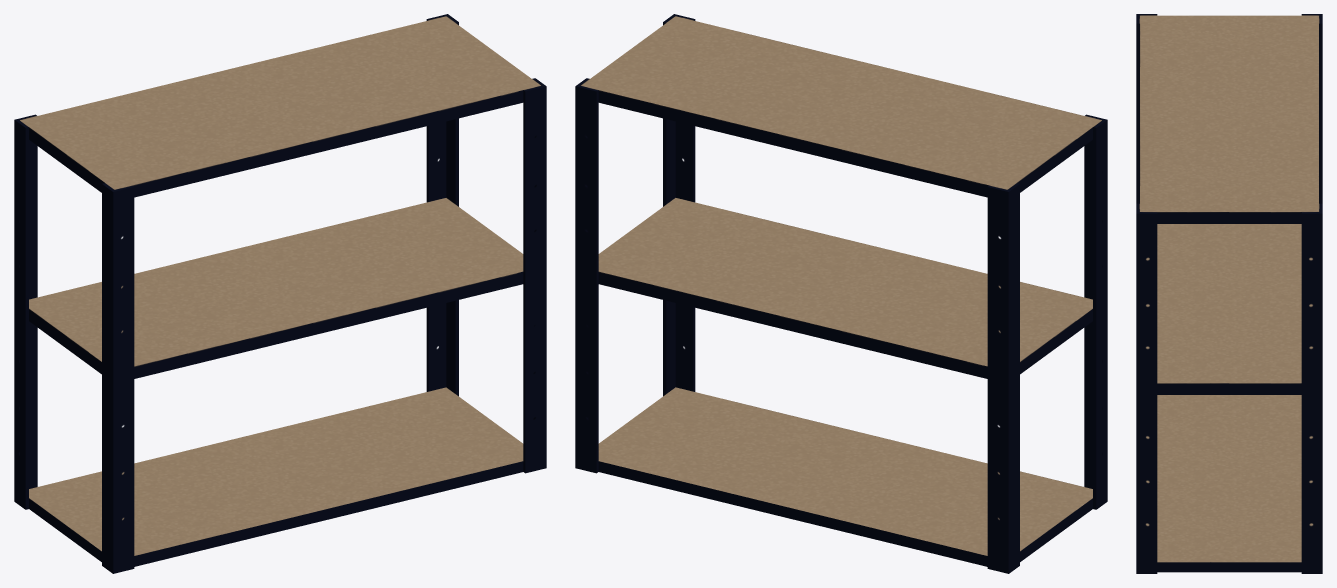
3 renders of one model, left to right at view 1: azimuth 30°, elevation 25°; view 2: azimuth 150°, elevation 25°; view 3: azimuth 270°, elevation 25°, orthographic. The views are drawn at different scales.
Parts seen in each view (by area): view 1: Shelf_LP; view 2: Shelf_LP; view 3: Shelf_LP.
Boxes of the visible parts, x1,y1,x2,y2 form: Shelf_LP: [14, 14, 546, 573]; Shelf_LP: [575, 14, 1107, 573]; Shelf_LP: [1136, 14, 1322, 573].
Size of the model in its own units: 2.11 by 1.78 by 0.8333.
1 material, 1 textured.
